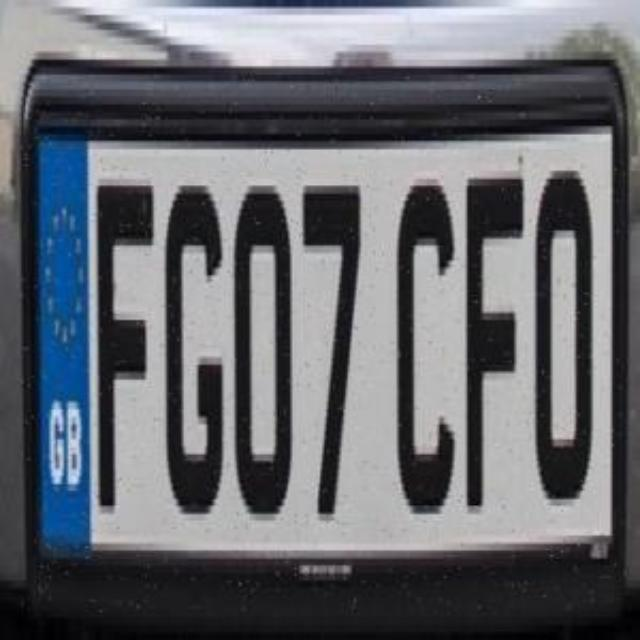License Plate: (21, 74, 624, 612)
